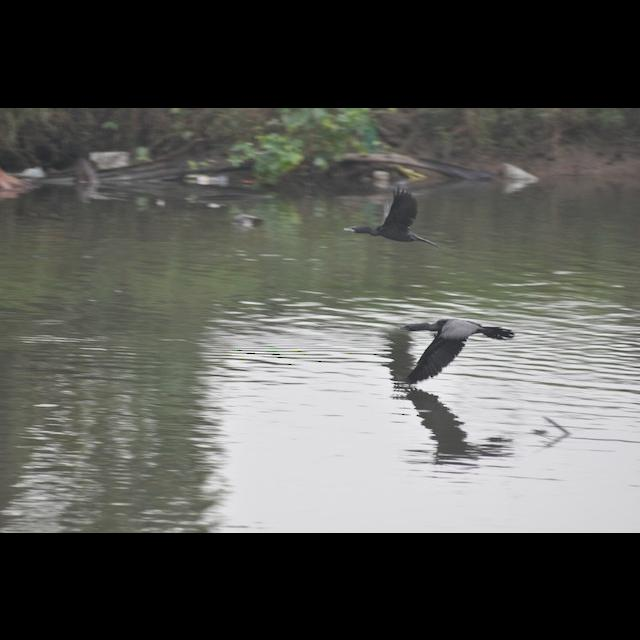cormorant: (396, 316, 514, 388), (342, 188, 438, 260)
